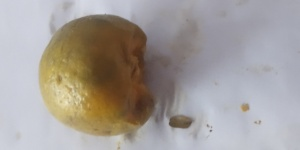BAD: (38, 11, 155, 133)
